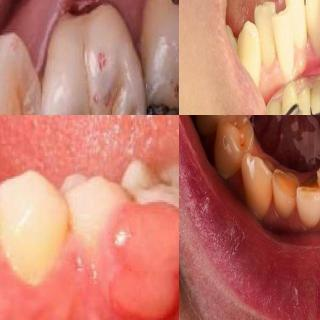Gum Swelling: (83, 204, 179, 320)
cavities: (49, 0, 122, 89)
maligned: (252, 0, 278, 74), (273, 5, 295, 80), (284, 0, 309, 52), (305, 0, 320, 56)
